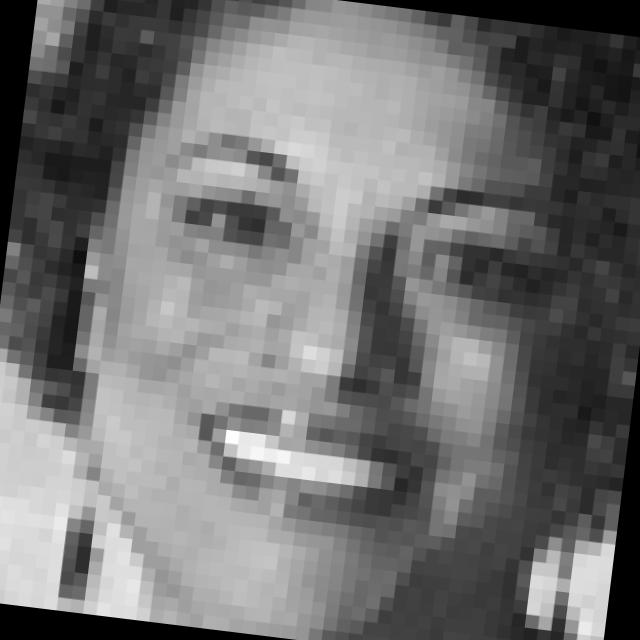happy: (111, 108, 576, 563)
